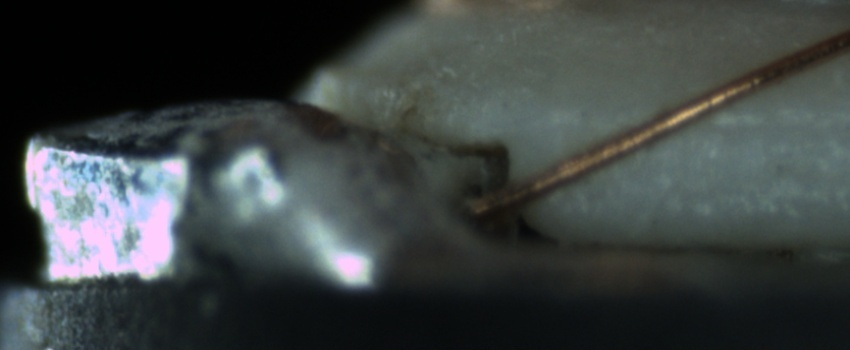DL: (610, 93, 850, 159)
